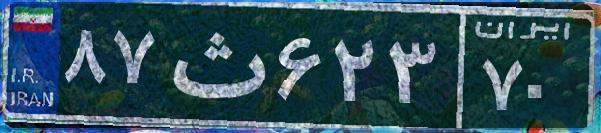0: (525, 38, 570, 115)
2: (330, 28, 385, 110)
3: (385, 28, 445, 110)
6: (273, 28, 330, 110)
7: (475, 38, 525, 113), (110, 28, 158, 105)
8: (57, 26, 110, 107)
ث: (158, 15, 273, 115)
